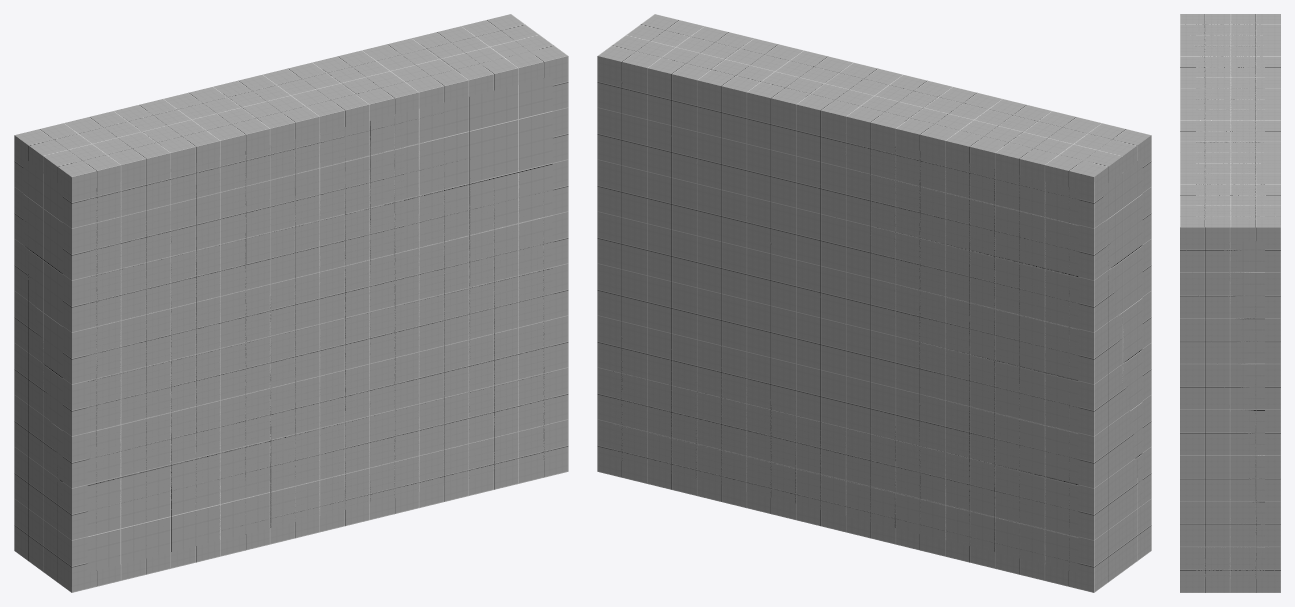
The model's file is tile_wall-sm.obj.
The picture shows the model from 3 angles, left to right: view 1: azimuth 30°, elevation 25°; view 2: azimuth 150°, elevation 25°; view 3: azimuth 270°, elevation 25°; orthographic projection. The views are drawn at different scales.
Parts seen in each view (by area): view 1: Cube.001, Cube; view 2: Cube.001, Cube; view 3: Cube.001, Cube.
Boxes of the visible parts, x1=… form: Cube.001: x1=14, y1=14, x2=568, y2=592; Cube: x1=23, y1=25, x2=552, y2=572; Cube.001: x1=597, y1=14, x2=1151, y2=592; Cube: x1=613, y1=25, x2=1142, y2=572; Cube.001: x1=1180, y1=14, x2=1280, y2=592; Cube: x1=1196, y1=21, x2=1264, y2=578.
Bounding box in the file's own units: 20 × 16 × 4.
Materials: 3 (3 with a texture image).
